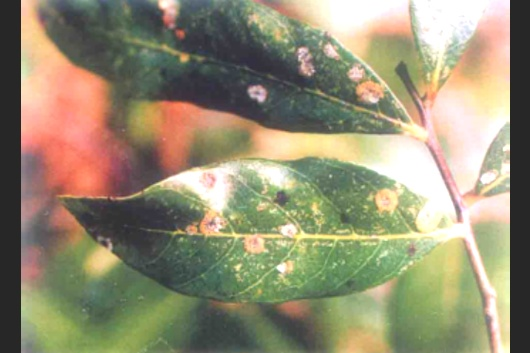Anthracnose: (166, 167, 436, 262), (250, 24, 386, 104)
